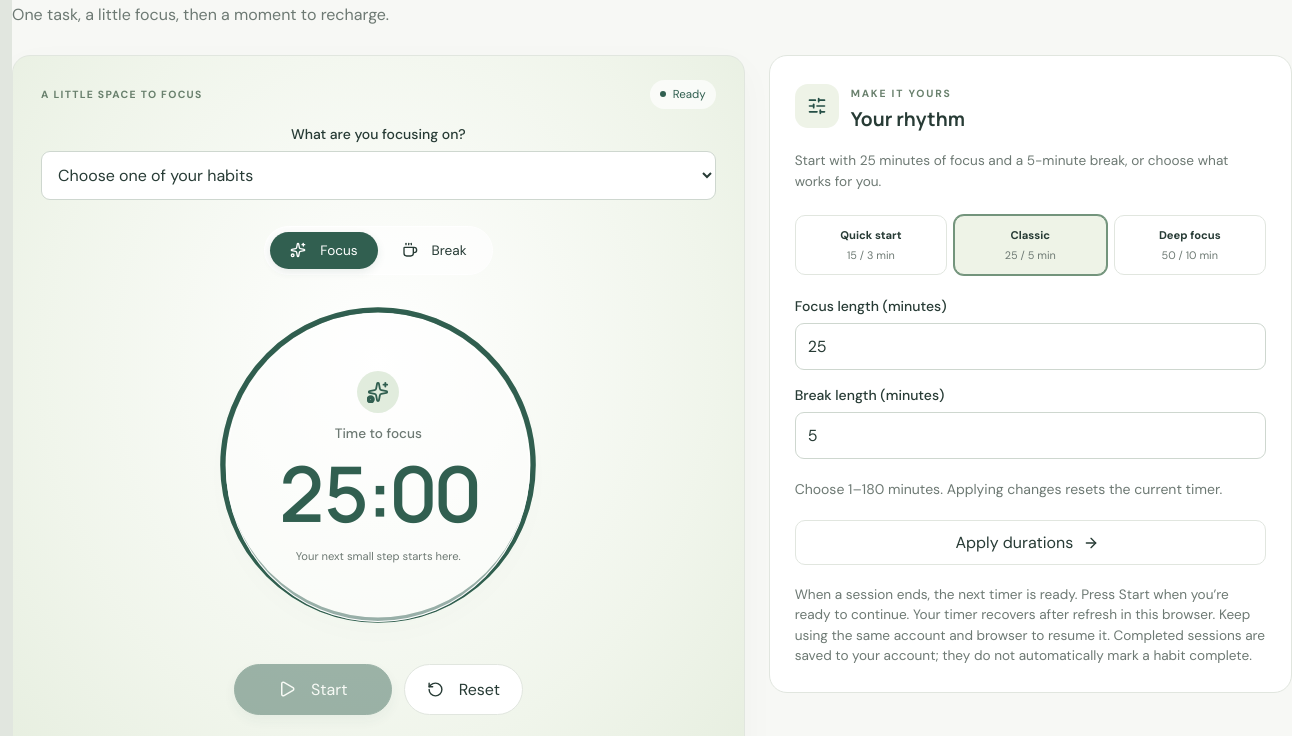
Test: habit-linked Pomodoro › records a completed focus session once, updates the report, and does not record breaks
Step 1. Select "Take a walk" in the dropdown labelled "What are you focusing on?" → (378, 175), box [41,151,716,200]
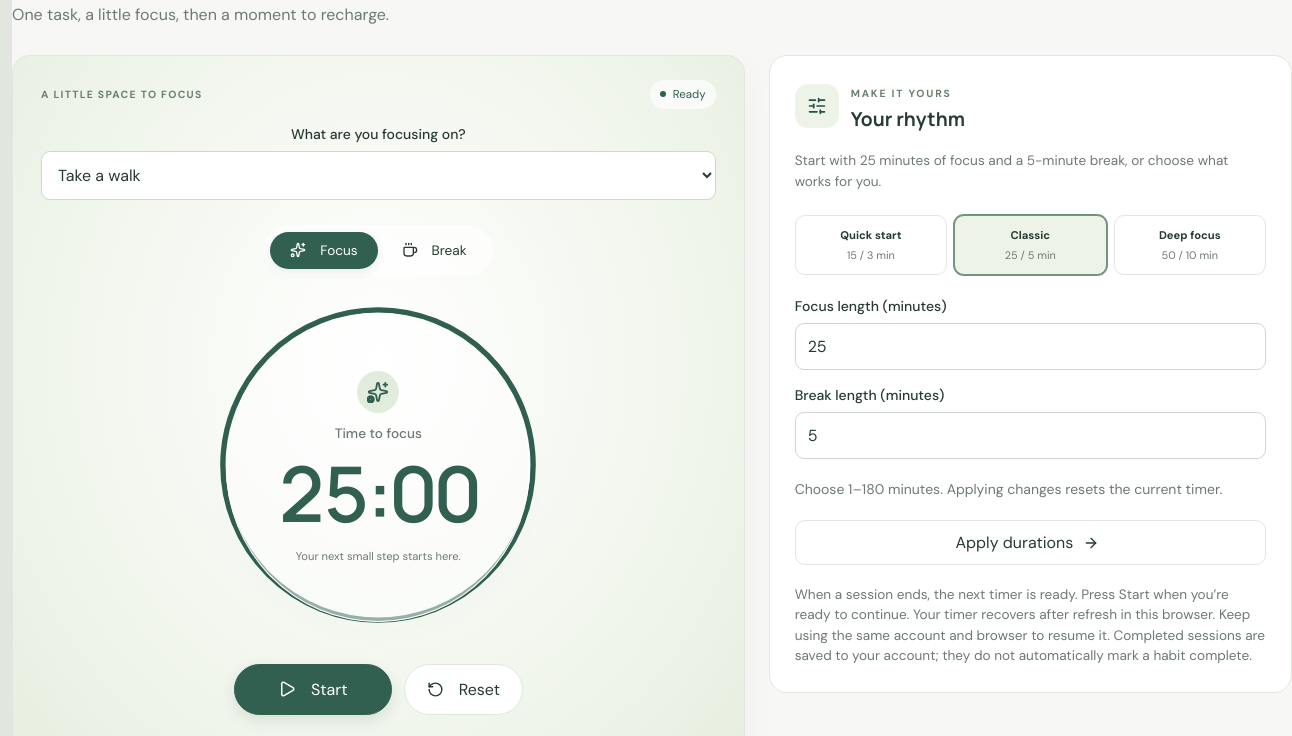
Step 2. Replace the text in the number field labelled "Focus length (minutes)" with "1" → (1030, 347), box [795,323,1266,370]
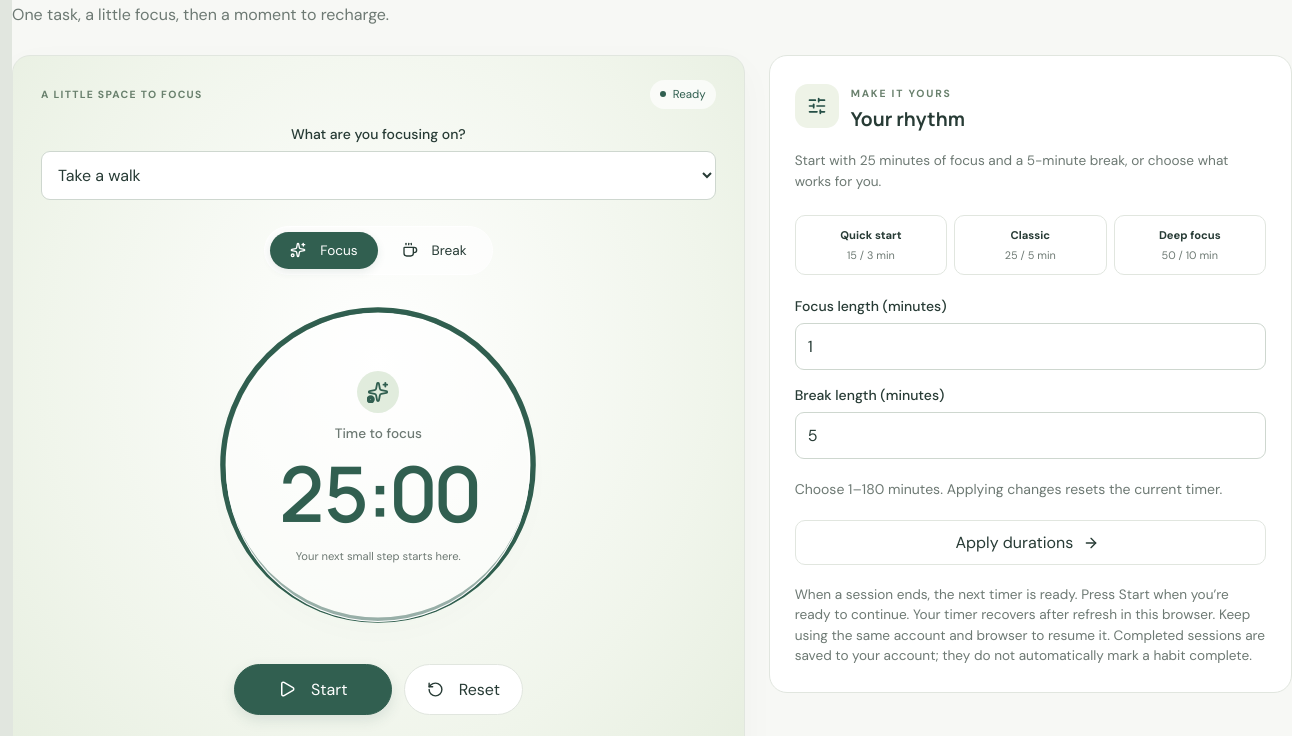
Step 3. Replace the text in the number field labelled "Break length (minutes)" with "2" → (1030, 436), box [795,412,1266,459]
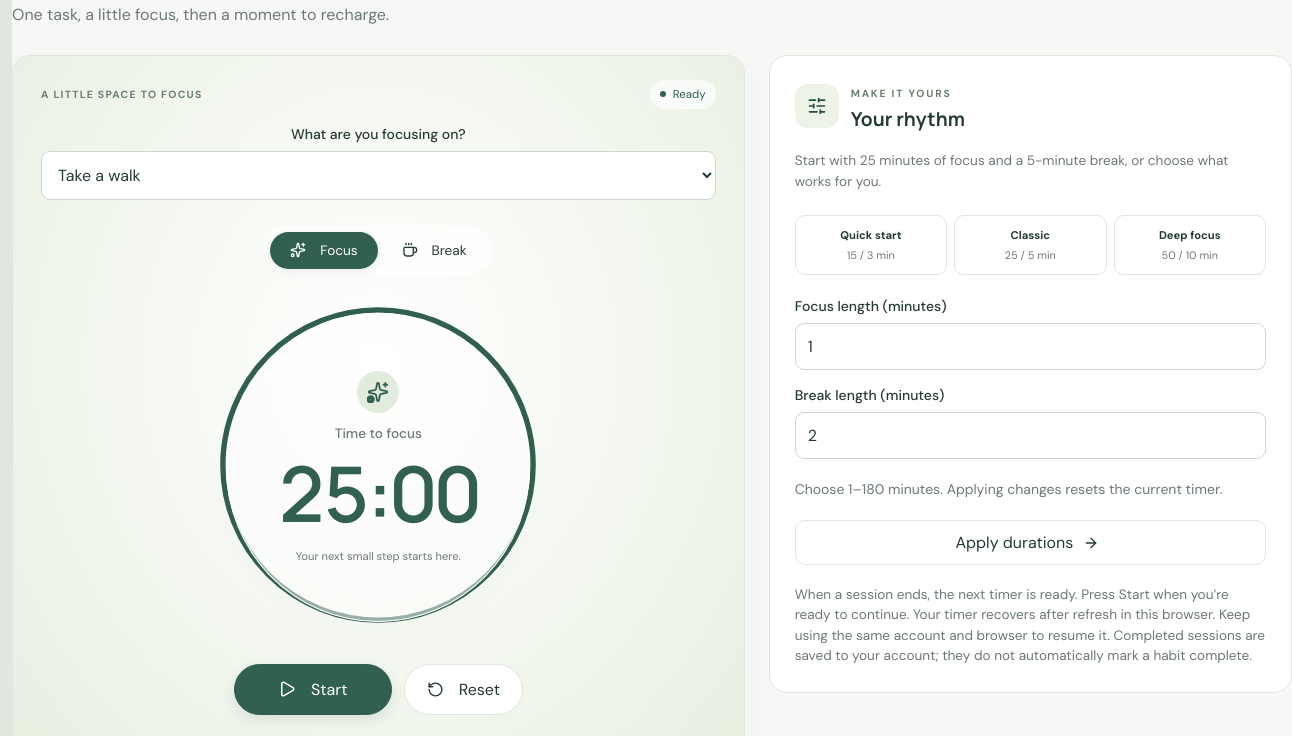
Step 4. Click the button "Apply durations" → (1030, 543), box [795,520,1266,565]
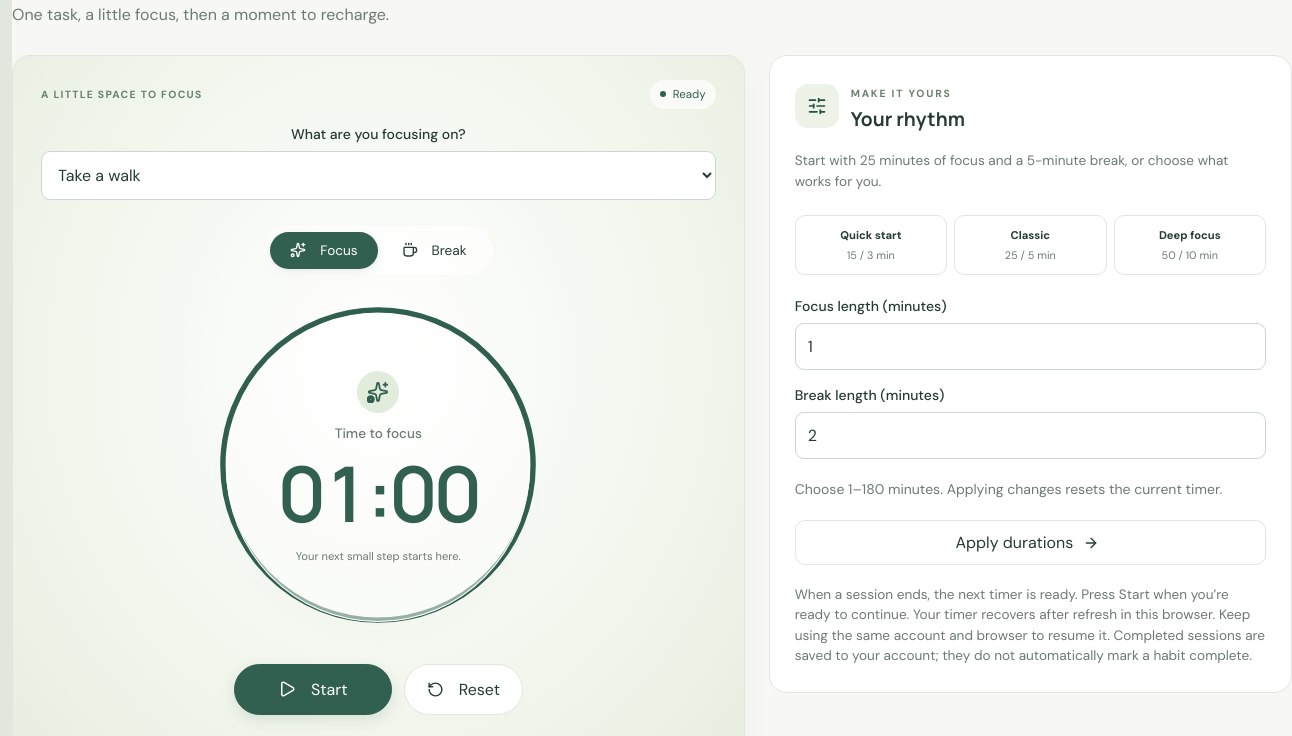
Step 5. Click the button "Start" → (313, 689), box [234,664,392,715]
Wait 60000 ms
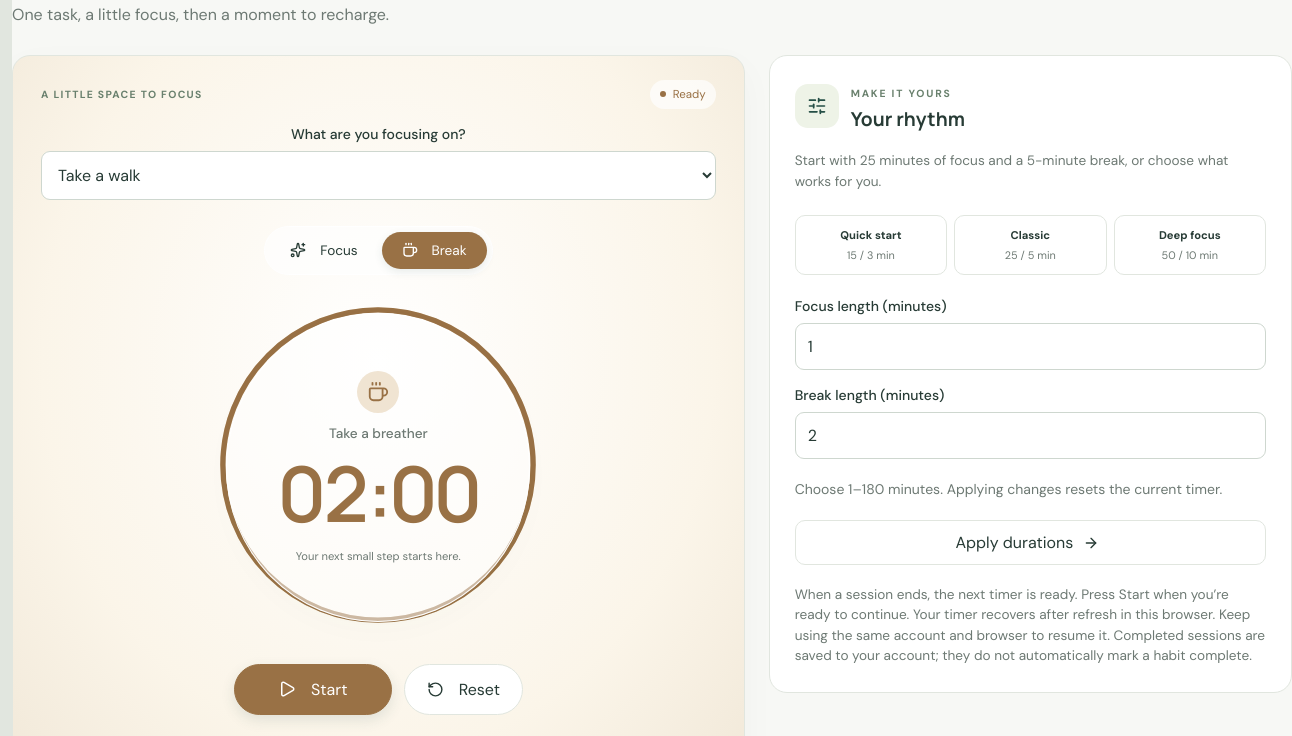
Result: the text "02:00" is shown at [278,447,479,539]
Step 6. Click the button "Start" → (313, 689), box [234,664,392,715]
Wait 120000 ms
(page scrolled)
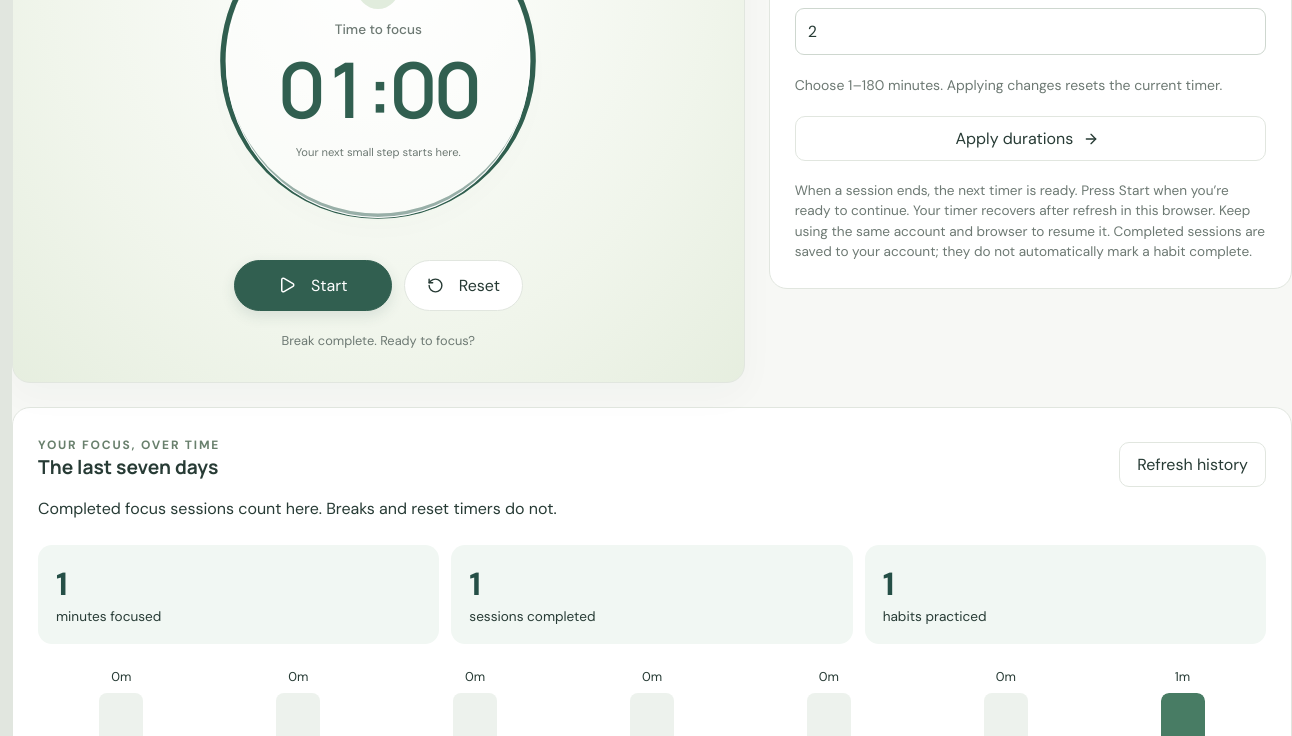
Result: the text "01:00" is shown at [278,43,479,135]
Result: the text "Break complete. Ready to focus?" is shown at [282,332,475,349]
